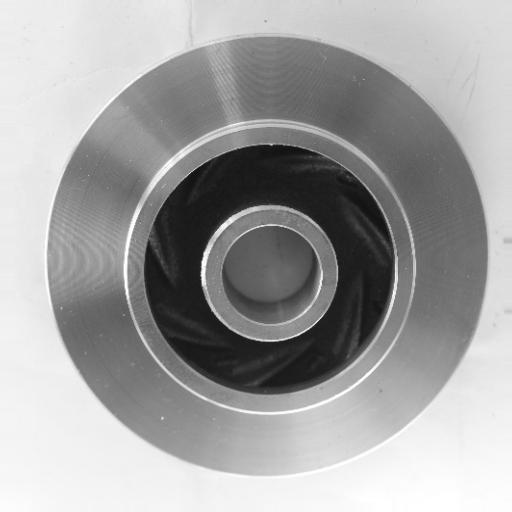polished_casting: (44, 34, 487, 480)
